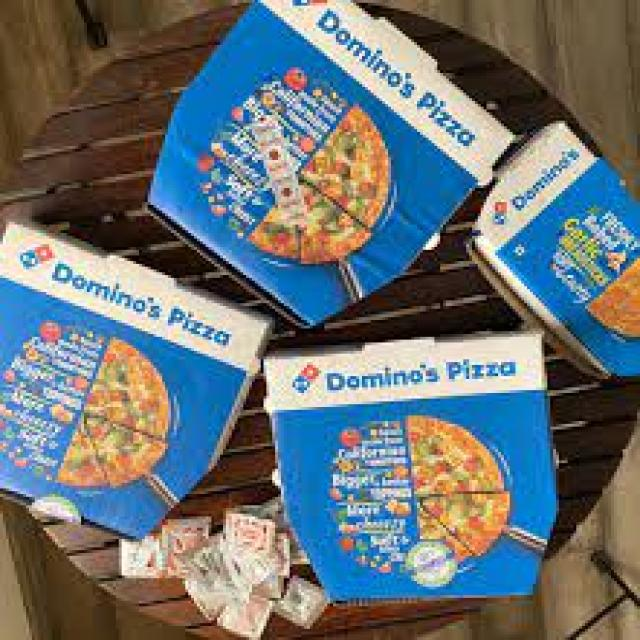Pizza: (155, 0, 499, 297), (253, 336, 561, 596)
